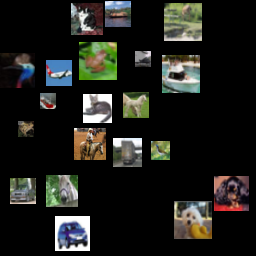airplane: (34, 205, 72, 243), (196, 142, 222, 168)
automobile: (11, 15, 40, 44)
cat: (211, 110, 240, 139), (7, 204, 33, 230), (42, 32, 64, 54)
deer: (28, 143, 66, 181), (19, 78, 57, 116), (215, 209, 244, 238), (111, 74, 133, 96)
dog: (136, 148, 171, 183), (150, 32, 176, 58), (97, 124, 113, 140)
frog: (116, 105, 145, 134), (141, 213, 157, 229)
ship: (94, 27, 132, 65), (174, 181, 193, 200)
